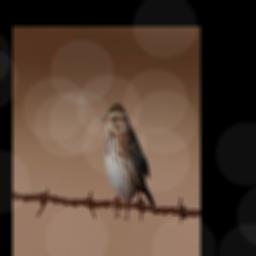Sparrow: (100, 103, 159, 219)
